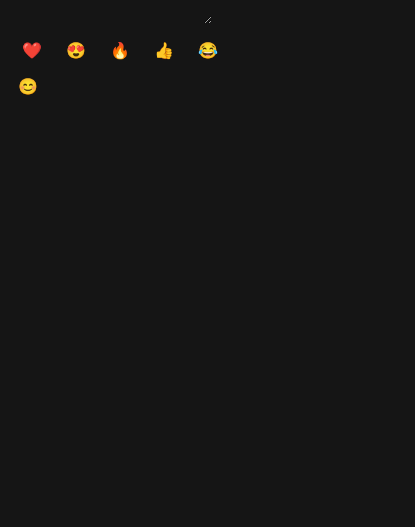
Test: EmojiBar › search filters the picker by keyword
The image size is (415, 527).
Click the button named "Emoji picker" at (28, 86), box [12,70,44,102]
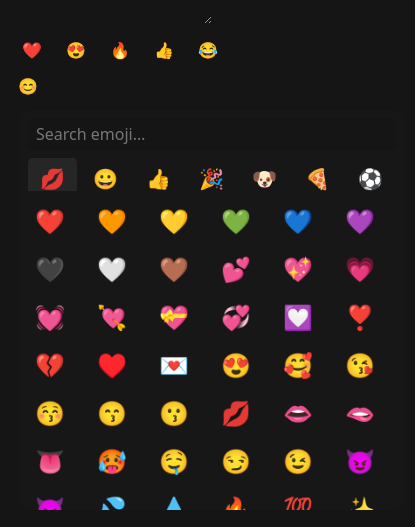
Type "eggplant" into the field with placeholder "Search emoji…" at (212, 134), box [28,118,396,150]
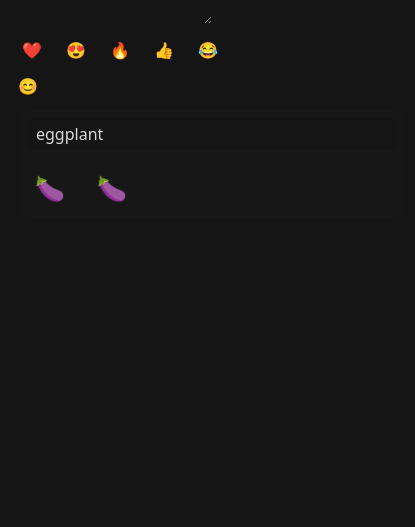
Now the 1st button "🍆" is shown, box [28,166,72,210]
Now the button "🐶" is gone
Replace the text in the field with placeholder "Search emoji…" with "zzzzqq" at (212, 134), box [28,118,396,150]
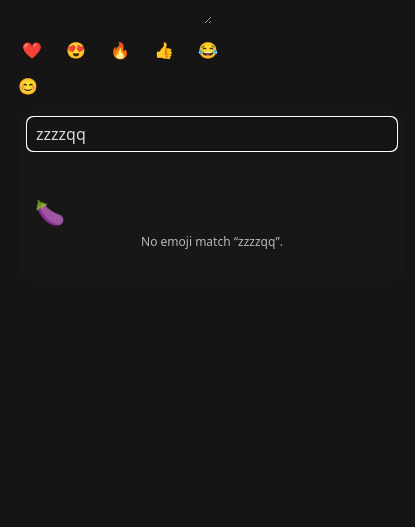
Now the text "🍆 No emoji match “zzzzqq”." is shown, box [28,190,283,250]
